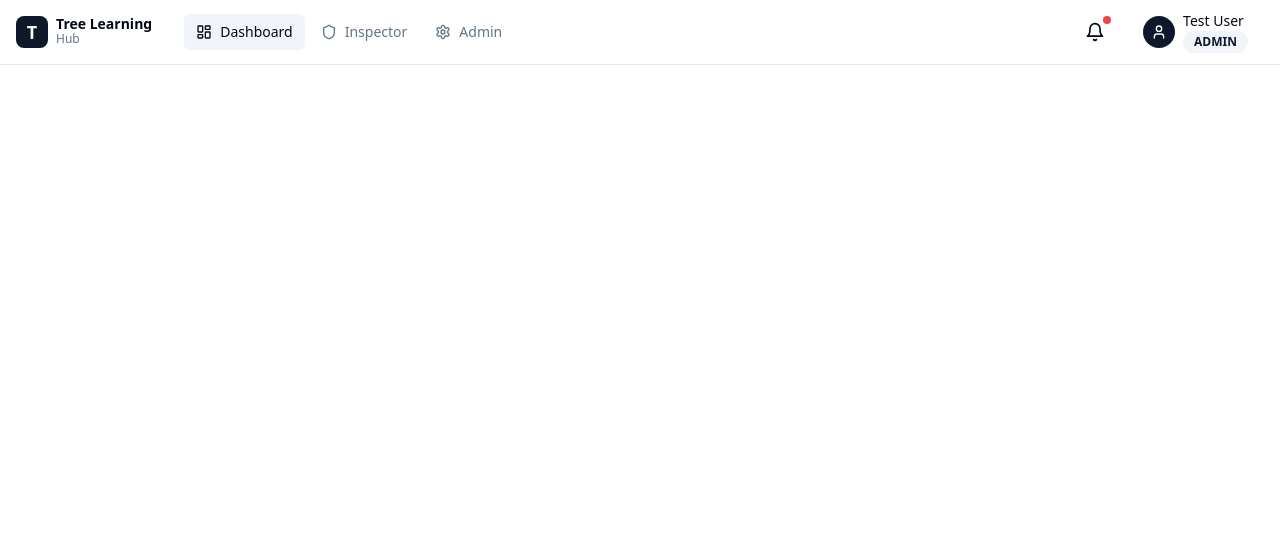
Test: Nav › closes notifications panel when close button is clicked
The image size is (1280, 541).
Note: Open notifications
Click the button named "Toggle notifications" at (1095, 32), box [1075,12,1115,52]
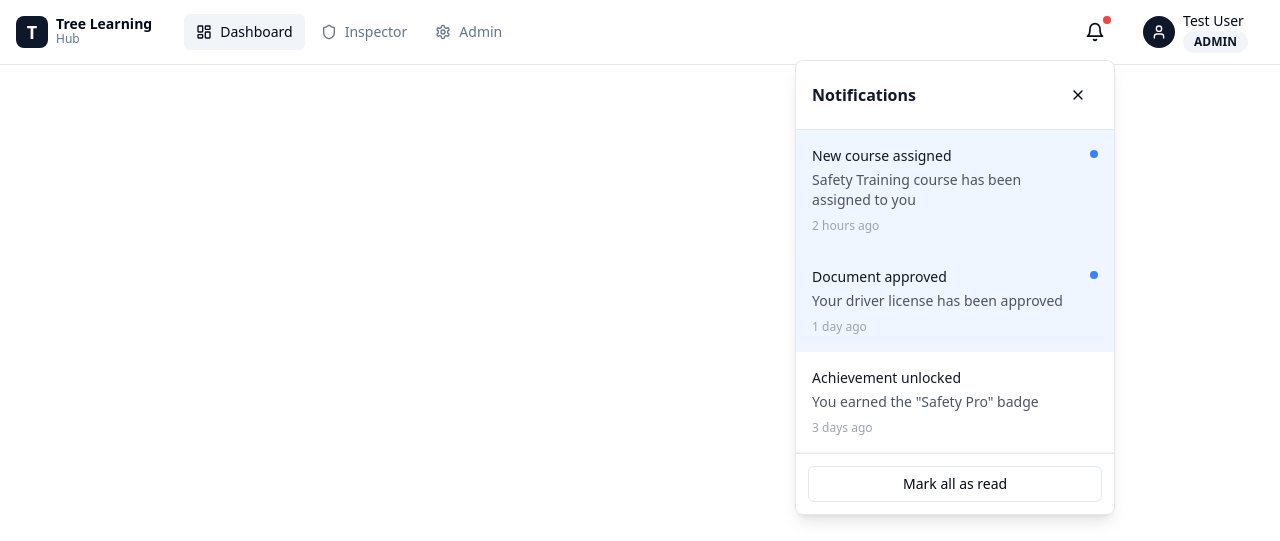
Now the heading "Notifications" is shown, box [812,83,916,107]
Note: Close notifications
Click the 3rd button at (1078, 95), box [1058,77,1098,113]
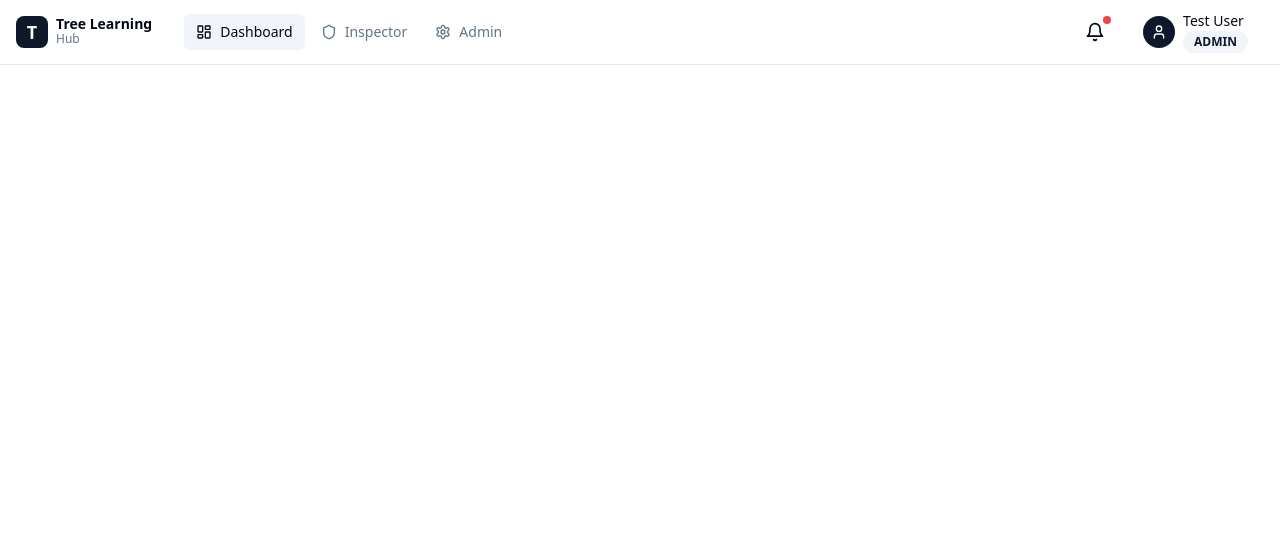
Now the heading "Notifications" is gone
